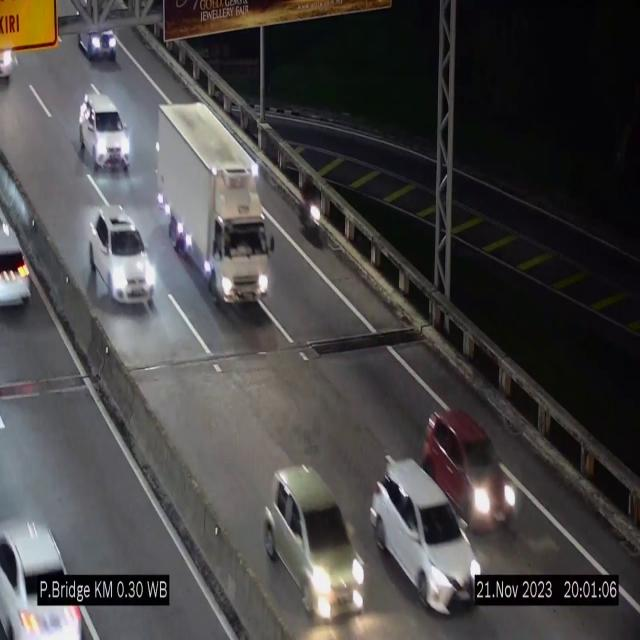Car: (261, 460, 371, 617), (370, 460, 480, 612), (0, 498, 80, 640), (426, 408, 510, 529), (88, 207, 156, 307), (0, 192, 40, 319), (78, 90, 131, 170), (76, 8, 126, 62), (0, 34, 37, 82)
Motorcycle: (298, 166, 322, 244)
Truck: (154, 99, 277, 309)
